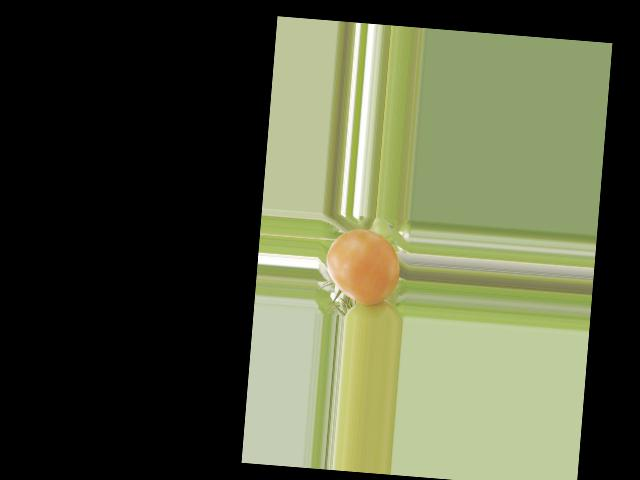tomato: (323, 226, 402, 307)
